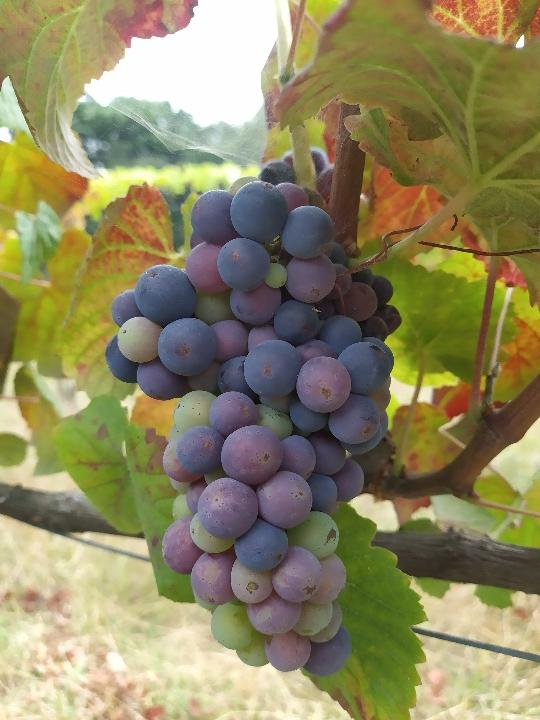grape: (102, 172, 405, 680)
